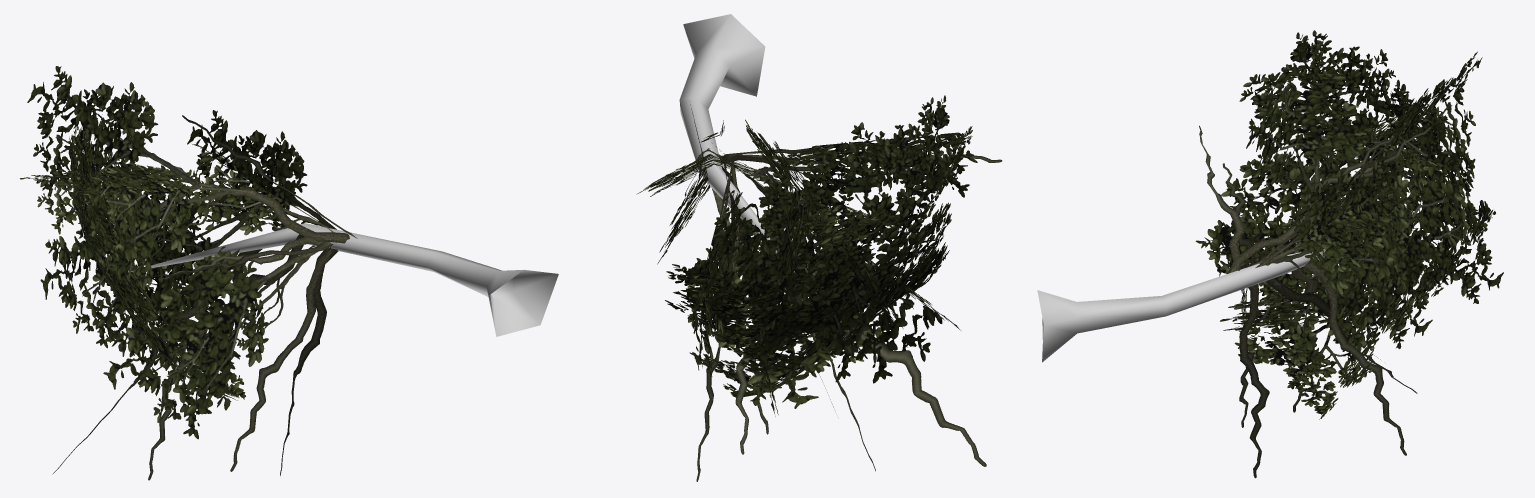
File: Tree_02_h.fbx
The picture shows the model from 3 angles, left to right: view 1: azimuth 30°, elevation 25°; view 2: azimuth 150°, elevation 25°; view 3: azimuth 270°, elevation 25°; orthographic projection. The views are drawn at different scales.
Visible parts, largest first — view 1: MEP_Leafs_02_h, MEP_TreeBark_01_h; view 2: MEP_Leafs_02_h, MEP_TreeBark_01_h; view 3: MEP_Leafs_02_h, MEP_TreeBark_01_h.
Boxes of the visible parts, <box> form: MEP_Leafs_02_h: <box>20,66,357,480</box>; MEP_TreeBark_01_h: <box>128,223,558,336</box>; MEP_Leafs_02_h: <box>636,95,1002,481</box>; MEP_TreeBark_01_h: <box>679,14,794,272</box>; MEP_Leafs_02_h: <box>1195,30,1503,478</box>; MEP_TreeBark_01_h: <box>1037,240,1363,362</box>.
Bounding box in the file's own units: 10.64 × 10.41 × 10.98.
